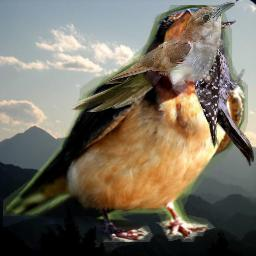Cuckoo: (70, 1, 235, 112)
Swallow: (3, 5, 248, 242)
Woodpecker: (190, 19, 254, 166)
